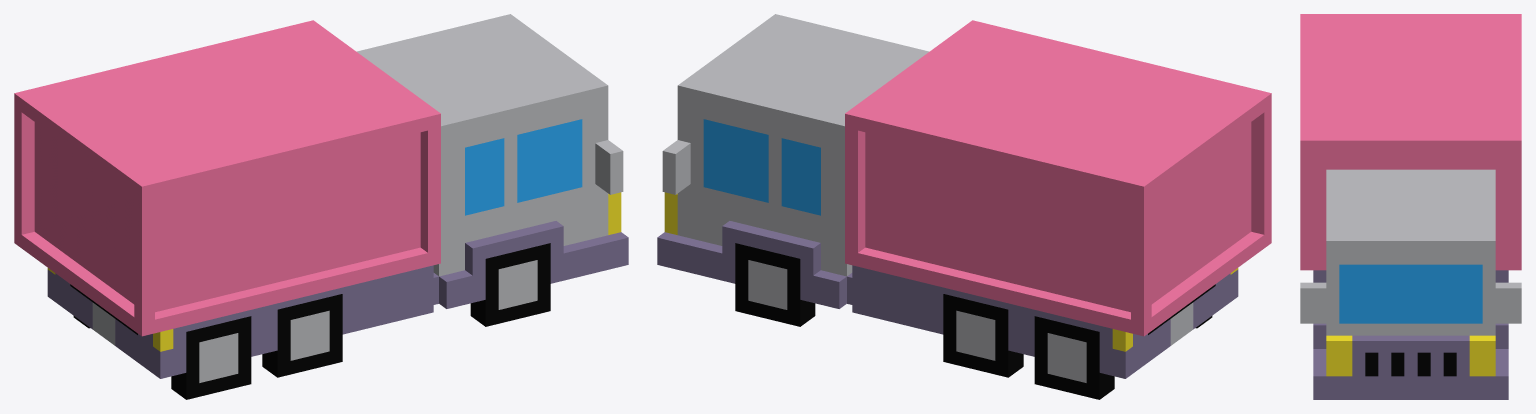
Rendered from truck_b_e.obj.
The picture shows the model from 3 angles, left to right: view 1: azimuth 30°, elevation 25°; view 2: azimuth 150°, elevation 25°; view 3: azimuth 270°, elevation 25°; orthographic projection. The views are drawn at different scales.
Size of the model in its own units: 3.8 by 1.7 by 1.7.
Materials: 1 (1 with a texture image).
